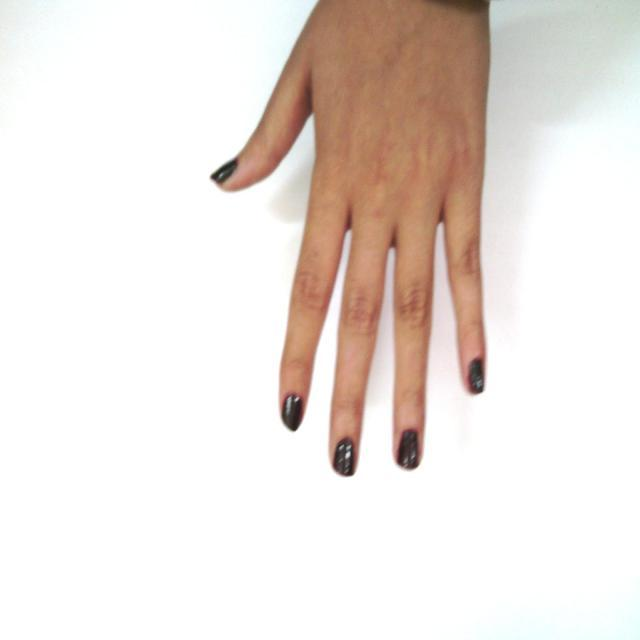Fingernail: (398, 429, 419, 469), (334, 440, 354, 476), (283, 395, 301, 430), (469, 359, 484, 394), (213, 161, 236, 183)
